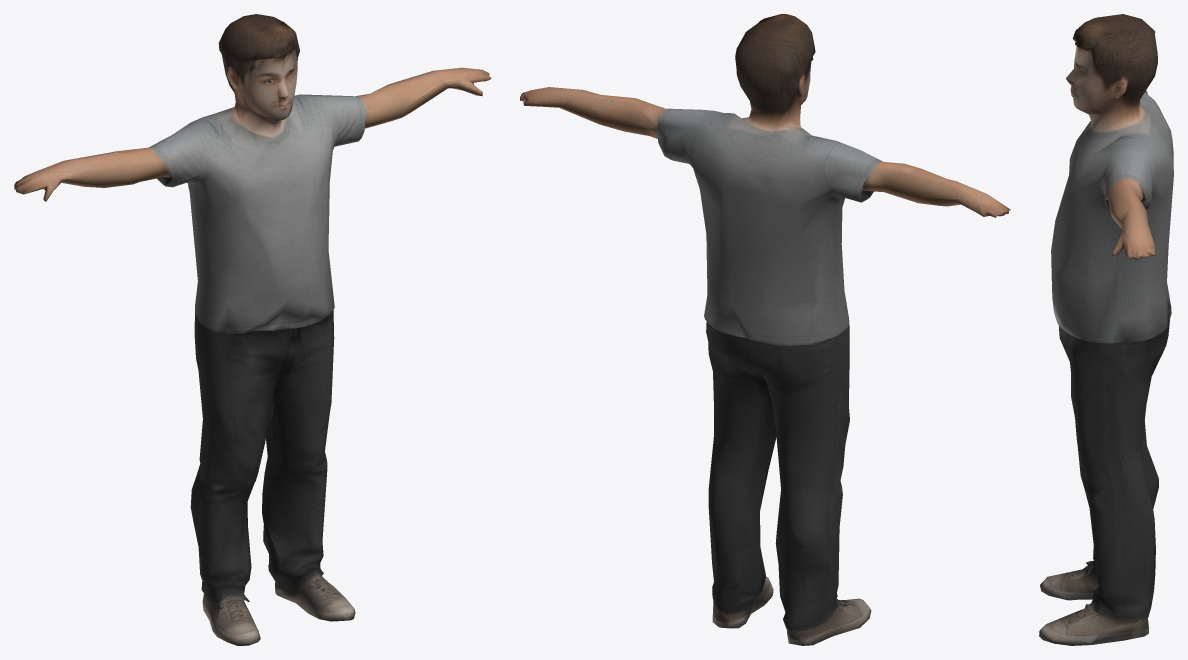
File: john_smith.glb
3 renders of one model, left to right at view 1: azimuth 30°, elevation 25°; view 2: azimuth 150°, elevation 25°; view 3: azimuth 270°, elevation 25°, orthographic. The views are drawn at different scales.
Size of the model in its own units: 1.69 by 2 by 0.4124.
1 material, 1 textured.
